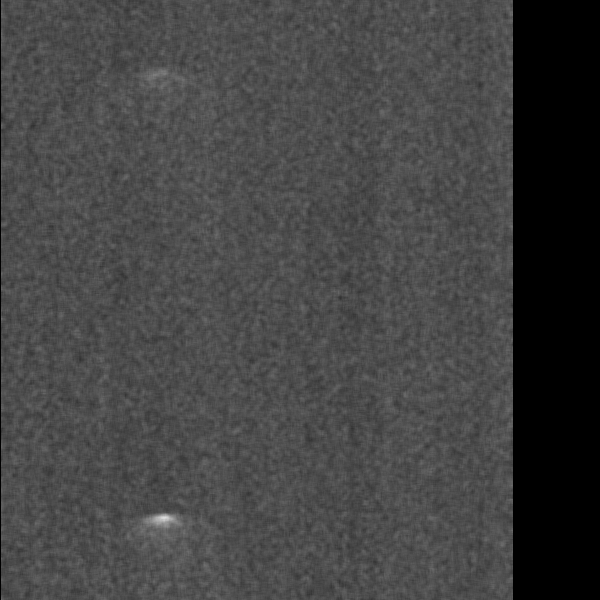spark: (115, 127, 147, 189), (380, 486, 410, 509)
